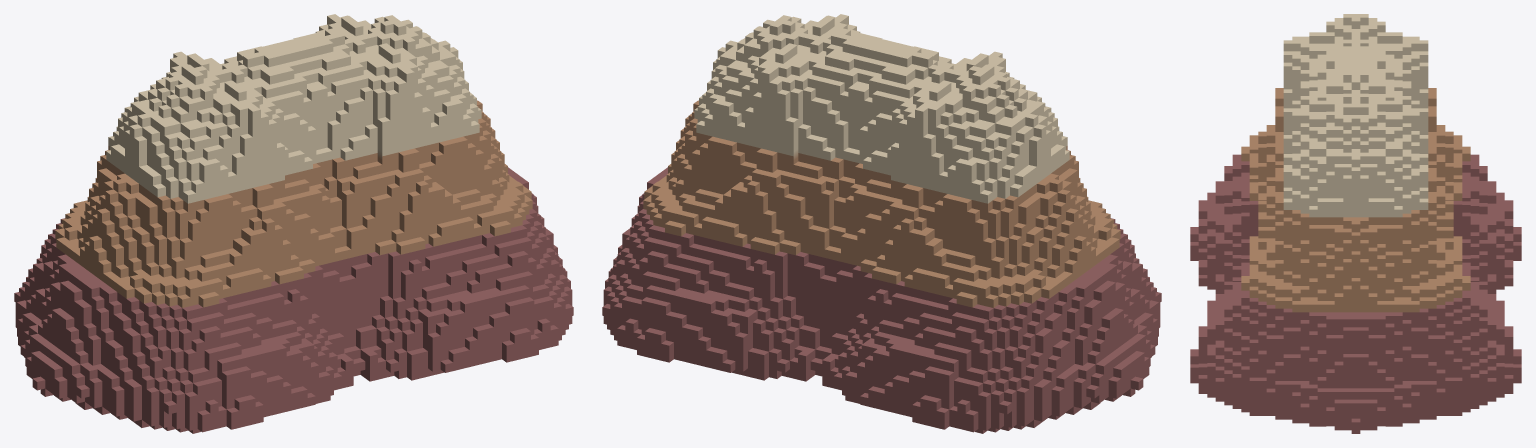
The model's file is funny_rock_hills.fbx.
3 renders of one model, left to right at view 1: azimuth 30°, elevation 25°; view 2: azimuth 150°, elevation 25°; view 3: azimuth 270°, elevation 25°, orthographic. The views are drawn at different scales.
Parts seen in each view (by area): view 1: Voxelized_Tos_Tree_part; view 2: Voxelized_Tos_Tree_part; view 3: Voxelized_Tos_Tree_part.
Boxes of the visible parts, <box> form: Voxelized_Tos_Tree_part: <box>14,14,573,433</box>; Voxelized_Tos_Tree_part: <box>602,14,1161,433</box>; Voxelized_Tos_Tree_part: <box>1190,14,1521,433</box>.
Bounding box in the file's own units: 64 × 34 × 39.
